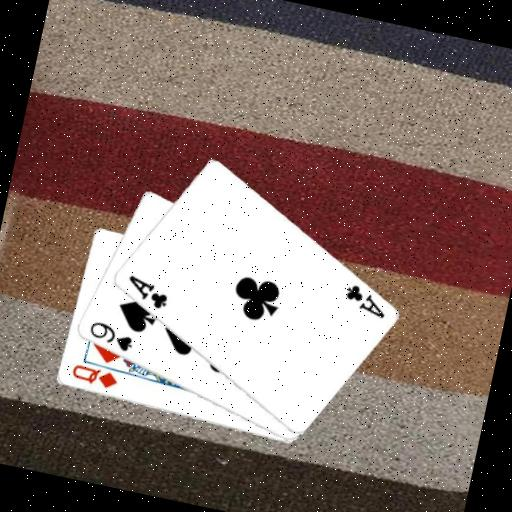9S: (83, 317, 138, 355)
AC: (338, 280, 391, 321), (120, 271, 172, 312)
QD: (66, 360, 120, 392)
